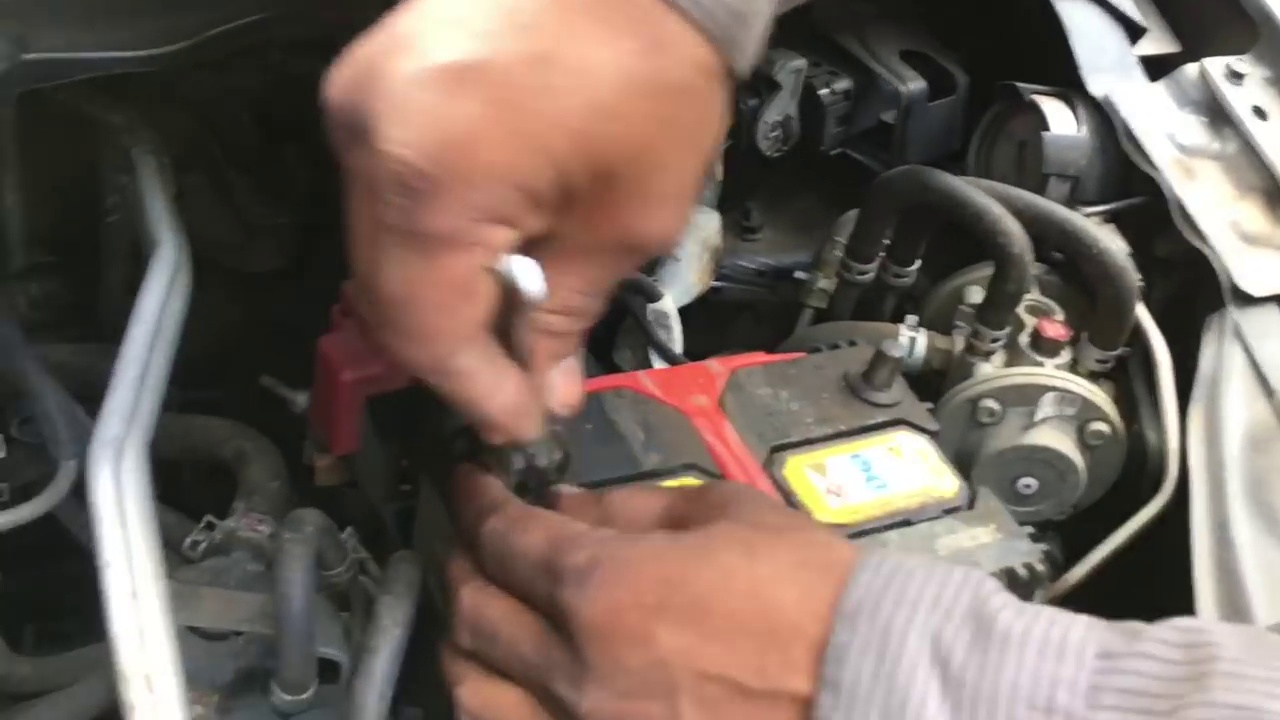battery: (485, 326, 986, 617)
neg_disconnected: (823, 314, 925, 427)
pos_connected: (300, 280, 612, 604)
